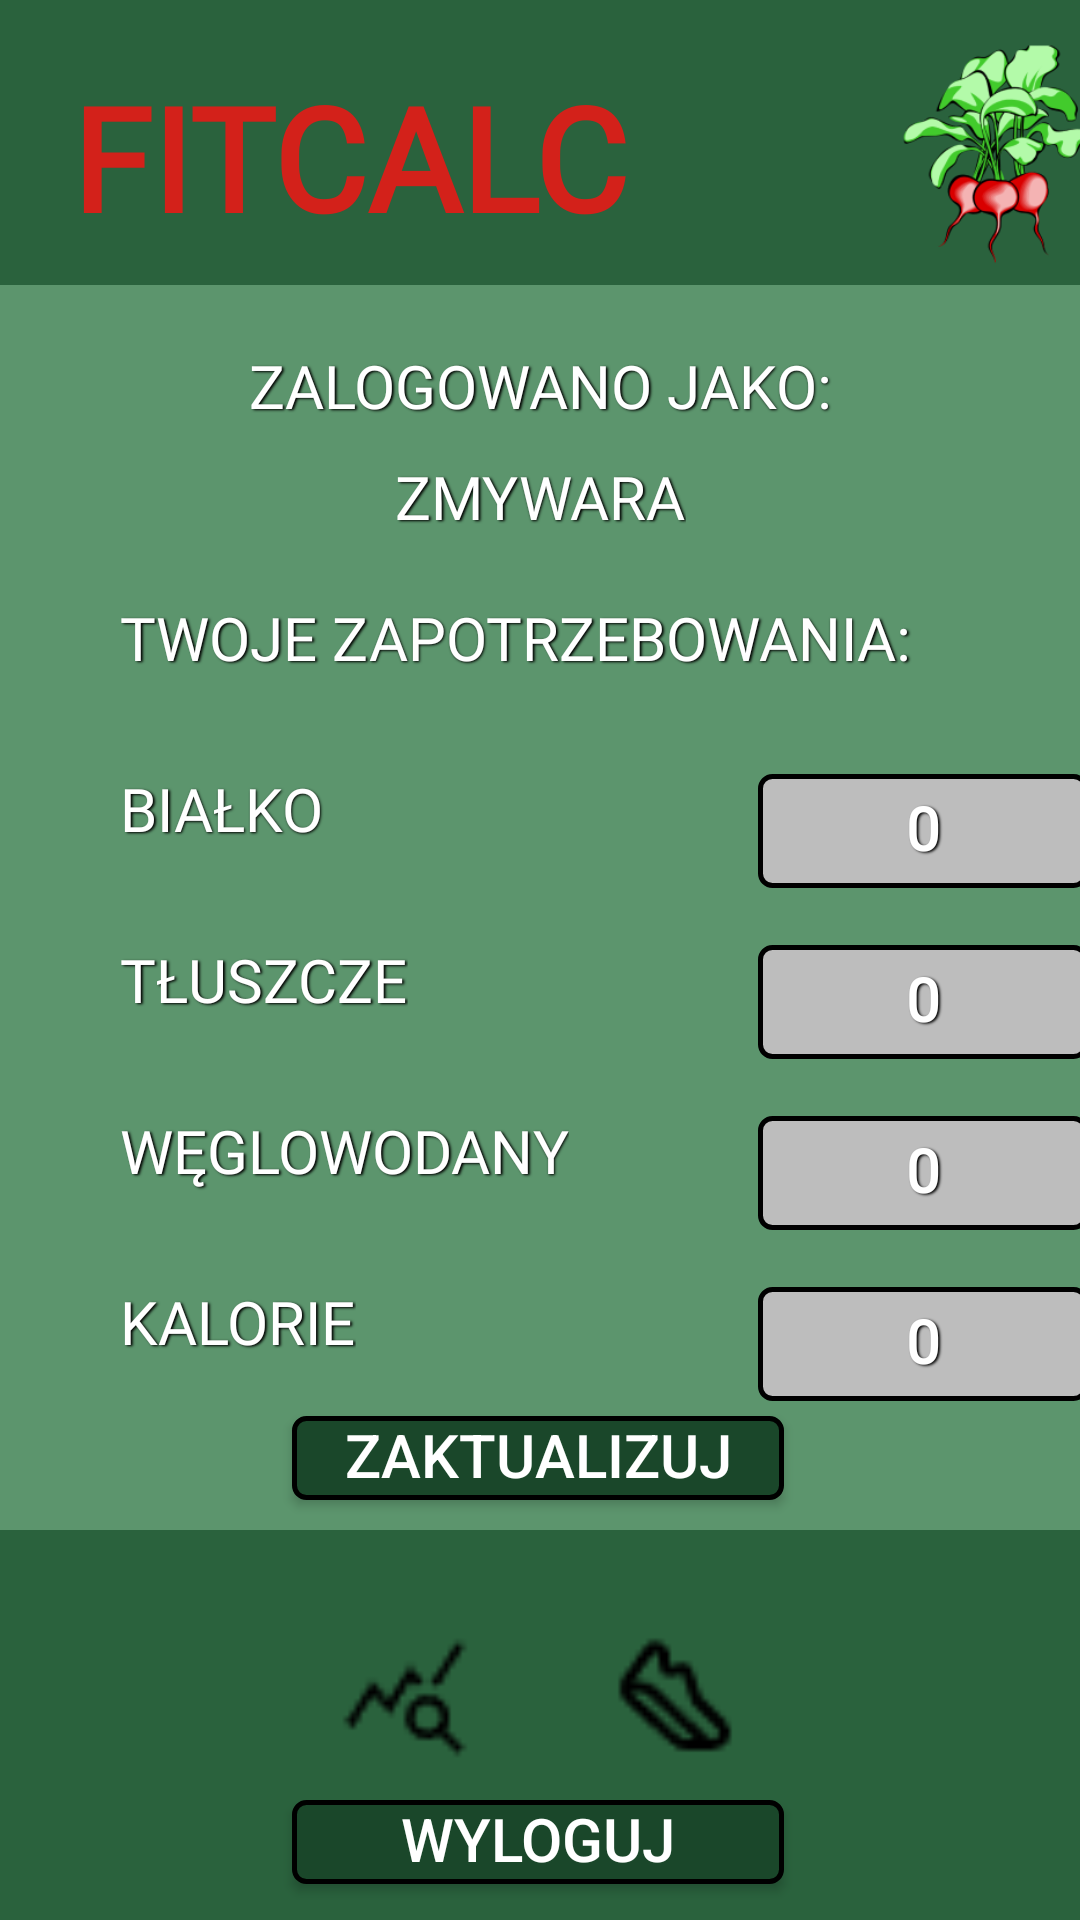

Where icons sit on this 1080px×1920px app screen, as (x1, y1, x2, y2):
analiza: (345, 1643, 464, 1754)
stopa: (619, 1639, 731, 1751)
